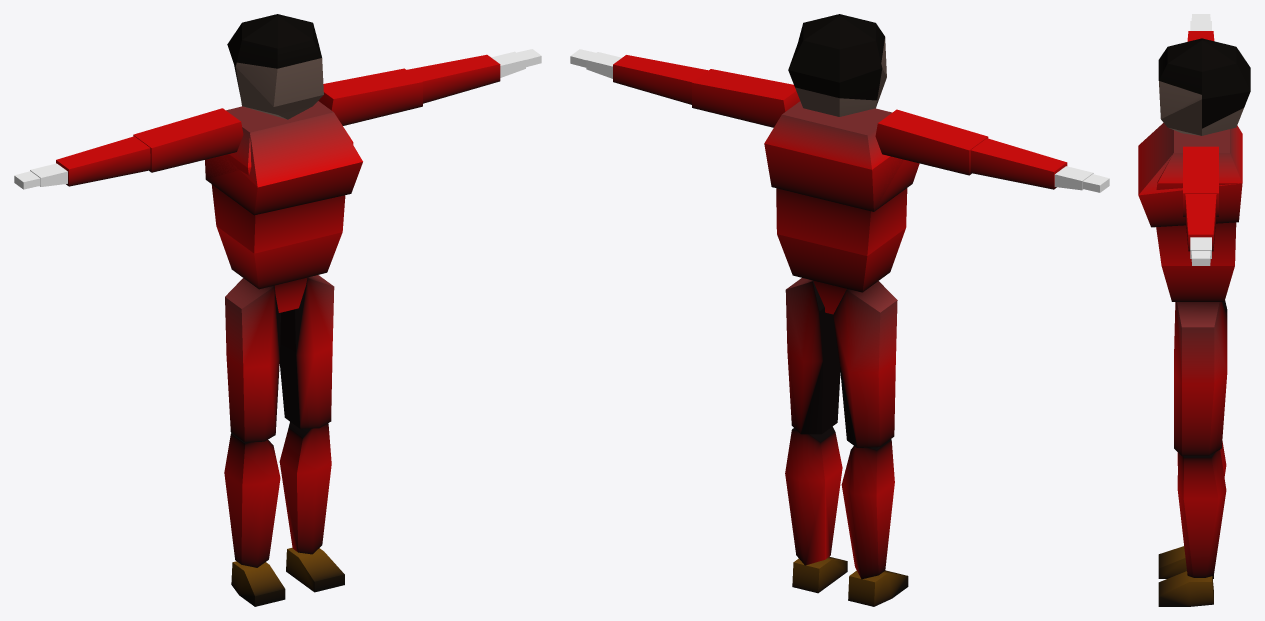
File: character.fbx
3 views of the same model, side by side, from view 1: azimuth 30°, elevation 25°; view 2: azimuth 150°, elevation 25°; view 3: azimuth 270°, elevation 25° (orthographic). The views are drawn at different scales.
Parts seen in each view (by area): view 1: chest_female, stomach, head, thighR, thighL, calfR, calfL, armUR, armUL, armR, armL, chest_male (+3 smaller); view 2: chest_male, stomach, thighR, head, thighL, calfL, calfR, armUR, armUL, armR, armL, footR (+2 smaller); view 3: thighL, head, calfL, stomach, chest_female, chest_male, armUL, footL, armL, footR, handL, fingersL (+2 smaller).
Boxes of the visible parts, box(x1,y1,x2,y2) form: chest_female: box(205, 112, 362, 215); stomach: box(211, 184, 345, 289); head: box(227, 14, 323, 119); thighR: box(225, 278, 280, 442); thighL: box(279, 275, 334, 428); calfR: box(224, 433, 280, 567); calfL: box(279, 422, 331, 554); armUR: box(133, 108, 243, 172); armUL: box(318, 68, 422, 125); armR: box(56, 136, 150, 186); armL: box(407, 54, 500, 103); chest_male: box(205, 101, 353, 179); chest_male: box(764, 101, 903, 211); stomach: box(776, 188, 907, 292); thighR: box(833, 281, 897, 447); head: box(788, 14, 886, 116); thighL: box(785, 278, 840, 434); calfL: box(785, 426, 842, 565); calfR: box(841, 439, 894, 579); armUR: box(875, 109, 988, 175); armUL: box(692, 69, 800, 127); armR: box(970, 138, 1067, 189); armL: box(613, 55, 708, 104); footR: box(848, 570, 908, 606); thighL: box(1174, 302, 1227, 455); head: box(1158, 38, 1250, 135); calfL: box(1177, 450, 1226, 577); stomach: box(1156, 222, 1236, 301); chest_female: box(1138, 123, 1242, 227); chest_male: box(1156, 125, 1242, 189); armUL: box(1183, 146, 1218, 216); footL: box(1158, 571, 1213, 606); armL: box(1185, 194, 1216, 251); footR: box(1158, 546, 1213, 578); handL: box(1190, 237, 1211, 258); fingersL: box(1191, 251, 1210, 265).
Bounding box in the file's own units: 155 × 161 × 29.99.
